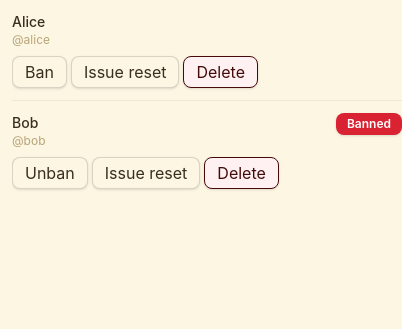
Test: FollowerManagementPanel › shows confirmation dialog when Ban is clicked
This screenshot has width=402, height=329.
Step 1. Click the button "Ban" → (39, 72), box [12,56,67,88]
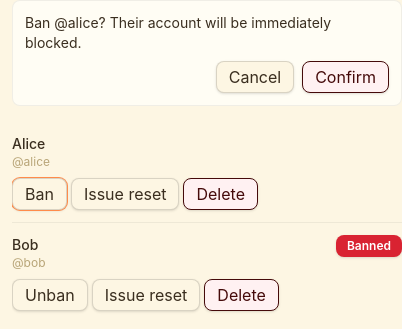
Now the text "Ban @alice? Their account will be immediately blocked." is shown, box [25,14,331,51]
Now the button "Confirm" is shown, box [302,61,389,93]
Now the button "Cancel" is shown, box [216,61,294,93]
